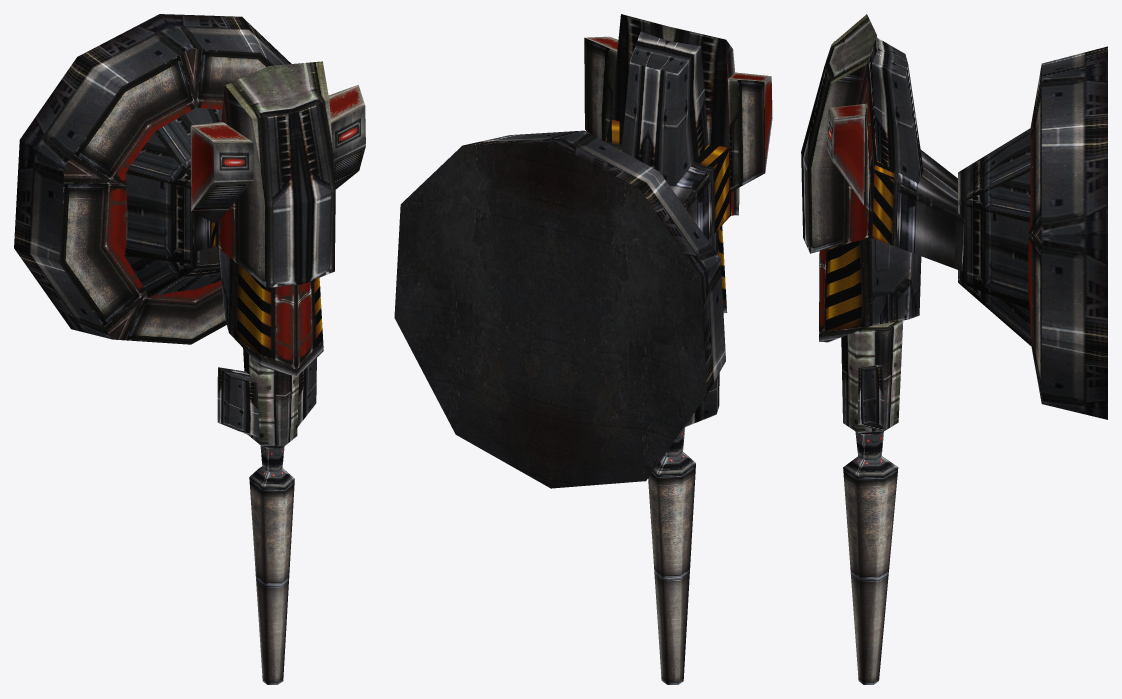
File: turret-05.obj
3 renders of one model, left to right at view 1: azimuth 30°, elevation 25°; view 2: azimuth 150°, elevation 25°; view 3: azimuth 270°, elevation 25°, orthographic. The views are drawn at different scales.
Visible parts, largest first — view 1: gun_01, body, head; view 2: body, gun_01; view 3: gun_01, body, head.
Boxes of the visible parts, box(x1,y1,x2,y2) form: gun_01: box(190, 61, 365, 684); body: box(14, 14, 291, 344); head: box(124, 107, 222, 296); body: box(394, 130, 725, 488); gun_01: box(584, 14, 772, 684); gun_01: box(801, 14, 964, 684); body: box(1027, 46, 1107, 419); head: box(958, 128, 1031, 345).
Bounding box in the file's own units: 3.82 × 7.69 × 3.31.
1 material, 1 textured.
